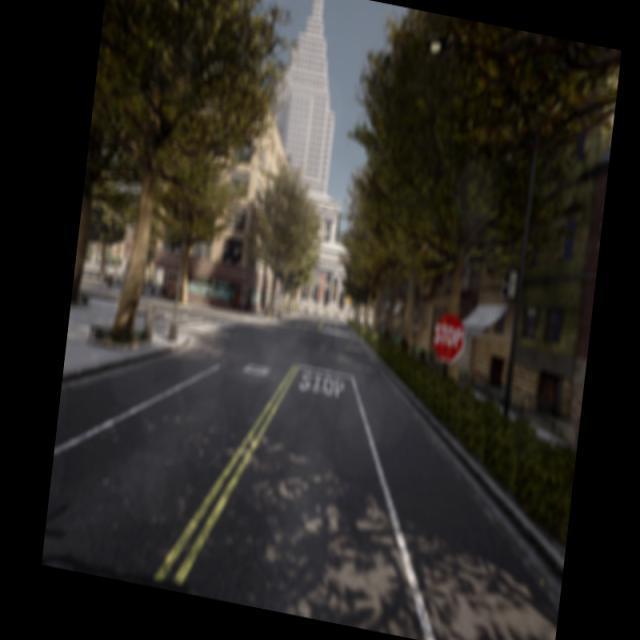stop sign: (430, 309, 467, 366)
